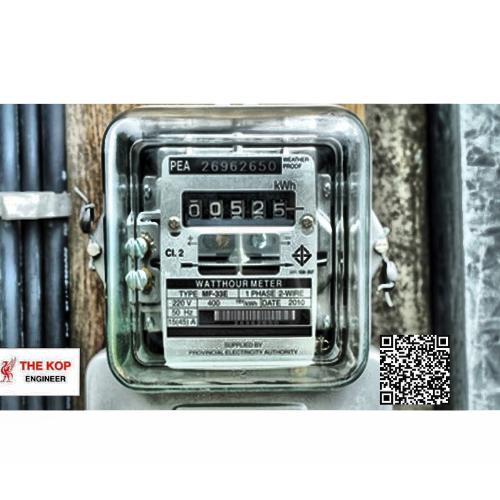qr_code: (381, 335, 452, 406)
